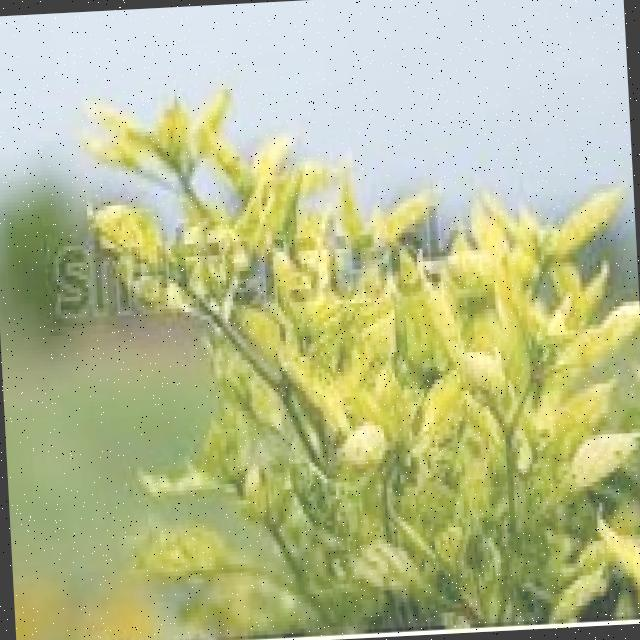yellow: (50, 29, 640, 638)
